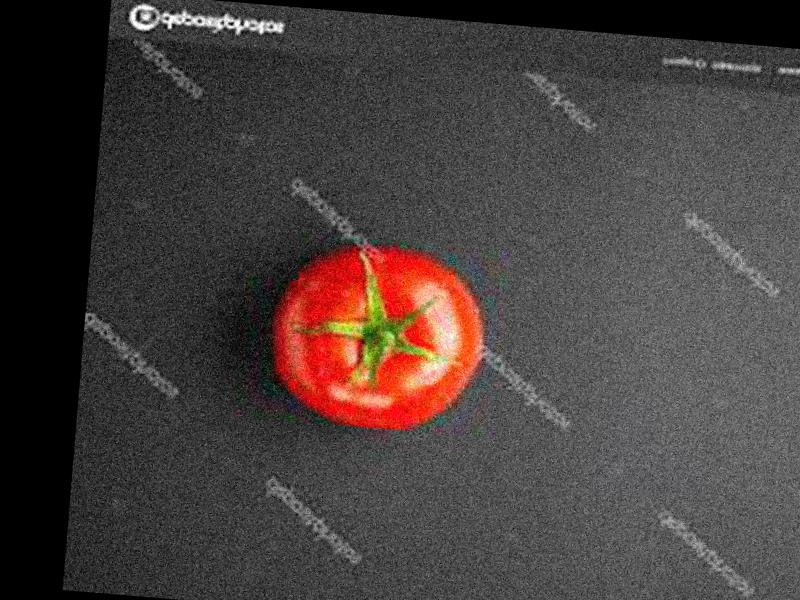Tomato: (267, 237, 493, 438)
